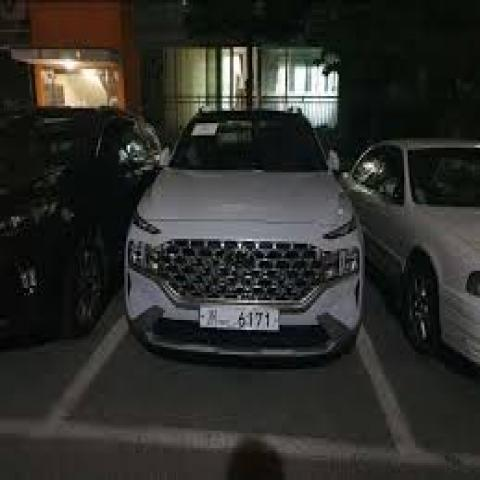LP: (190, 297, 288, 338)
